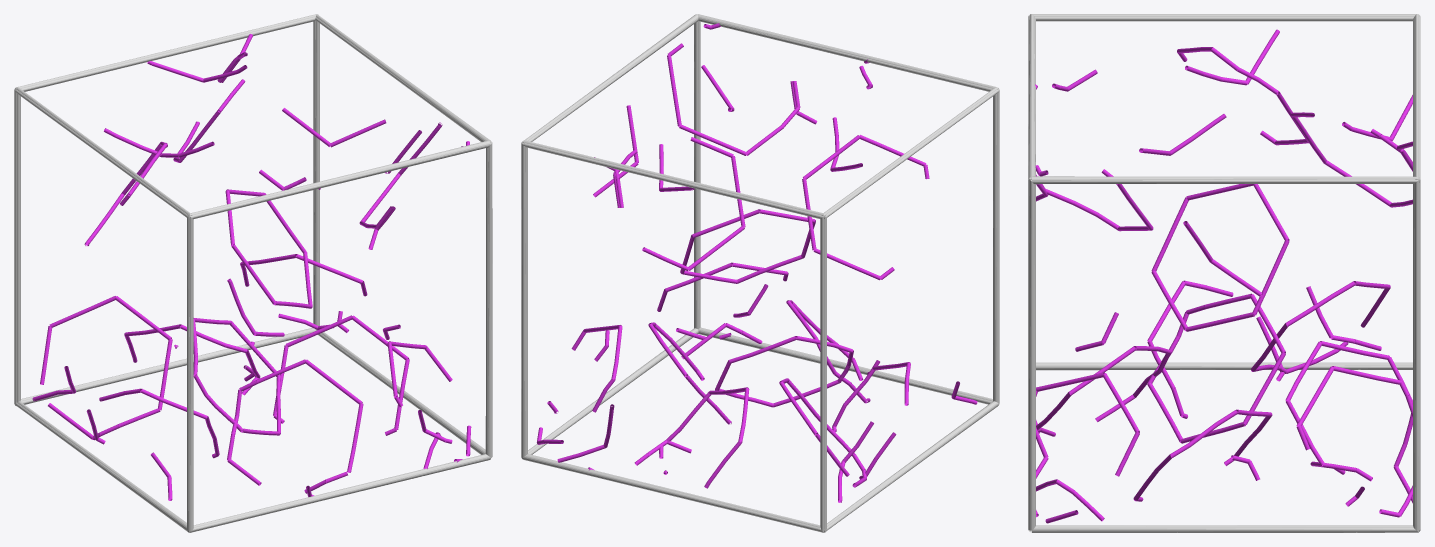
File: dislocation100.glb
3 views of the same model, side by side, from view 1: azimuth 30°, elevation 25°; view 2: azimuth 150°, elevation 25°; view 3: azimuth 270°, elevation 25° (orthographic). The views are drawn at different scales.
Visible parts, largest first — view 1: Shape_IndexedLineSet, Shape_IndexedLineSet.001; view 2: Shape_IndexedLineSet, Shape_IndexedLineSet.001; view 3: Shape_IndexedLineSet.001, Shape_IndexedLineSet.
Part boxes in pixels (left/top/right/bottom): Shape_IndexedLineSet: left=14, top=14, right=492, bottom=532; Shape_IndexedLineSet.001: left=32, top=34, right=471, bottom=500; Shape_IndexedLineSet: left=521, top=14, right=999, bottom=532; Shape_IndexedLineSet.001: left=536, top=23, right=977, bottom=502; Shape_IndexedLineSet.001: left=1035, top=29, right=1413, bottom=523; Shape_IndexedLineSet: left=1028, top=14, right=1420, bottom=532.
Bounding box in the file's own units: 1.02 × 1.02 × 1.02.
